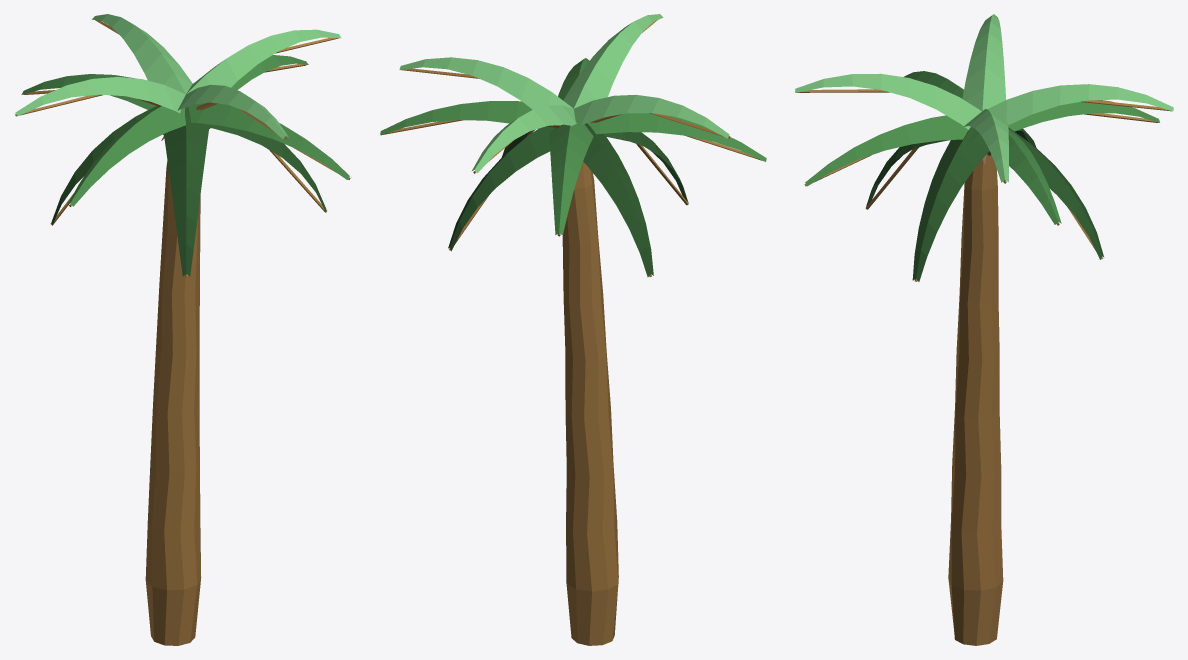
The model's file is PalmTall.fbx.
3 views of the same model, side by side, from view 1: azimuth 30°, elevation 25°; view 2: azimuth 150°, elevation 25°; view 3: azimuth 270°, elevation 25° (orthographic).
Visible parts, largest first — view 1: PalmTall; view 2: PalmTall; view 3: PalmTall.
Part boxes in pixels (<box>): PalmTall: <box>15,14,351,645</box>; PalmTall: <box>380,14,766,645</box>; PalmTall: <box>795,14,1173,645</box>.
Bounding box in the file's own units: 411 × 686 × 411.
